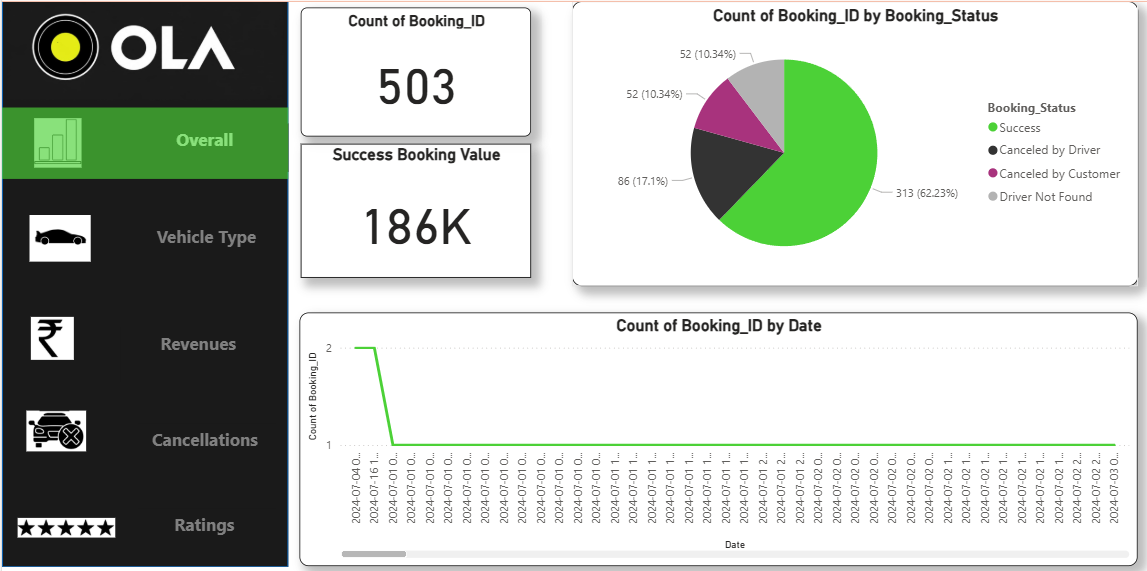

What the dashboard file says about the page in this screenshot:
{"tool":"powerbi","page":{"name":"Overall","canvas":[1280,720],"ordinal":0},"visuals":[{"type":"shape","box":[100,311.4,200,60],"z":0},{"type":"card","title":"Count of Booking_ID","fields":{"Values":["CountNonNull(ola_project cleaned_ola_data.Booking_ID)"]},"box":[328.6,95.7,252.9,141.4],"z":1000},{"type":"card","title":"Sum of Booking value","fields":{"Values":["Sum(ola_project cleaned_ola_data.Booking_Value)"]},"box":[454.7,466.1,252.3,148.2],"z":2000},{"type":"pieChart","fields":{"Category":["ola_project cleaned_ola_data.Booking_Status"],"Y":["CountNonNull(ola_project cleaned_ola_data.Booking_ID)"]},"box":[625.7,88.6,621.4,312.9],"z":3000},{"type":"lineChart","fields":{"Category":["ola_project cleaned_ola_data.Date"],"Y":["CountNonNull(ola_project cleaned_ola_data.Booking_ID)"]},"box":[327.1,431.4,920,278.6],"z":4000},{"type":"pageNavigator","box":[0,0,1000,50],"z":5000},{"type":"bookmarkNavigator","box":[0,0,600,50],"z":6000},{"type":"pageNavigator","box":[0,0,1000,50],"z":7000},{"type":"actionButton","box":[0,0,100,40],"z":8000},{"type":"actionButton","box":[0,0,100,40],"z":9000},{"type":"card","title":"Success Booking Value","fields":{"Values":["Table (2).Success Booking Value"]},"box":[328.6,245.7,252.9,147.1],"z":10000},{"type":"image","box":[0,40,300,184.3],"z":11000},{"type":"actionButton","box":[0,0,100,40],"z":12000},{"type":"actionButton","box":[0,0,100,40],"z":13000},{"type":"actionButton","box":[0,0,100,40],"z":14000},{"type":"shape","box":[0,25.7,314.3,684.3],"z":15000},{"type":"image","box":[0,60,314.3,164.3],"z":16000},{"type":"image","box":[22.9,212.9,75.7,64.3],"z":17000},{"type":"image","box":[25.7,431.4,58.6,57.1],"z":18000},{"type":"image","box":[30,324.3,67.1,51.4],"z":19000},{"type":"image","box":[21.4,475.7,75.7,170],"z":20000},{"type":"image","box":[12.9,614.3,117.1,104.3],"z":21000},{"type":"actionButton","box":[0,0,100,40],"z":22000},{"type":"actionButton","box":[0,0,100,40],"z":23000},{"type":"actionButton","box":[0,0,100,40],"z":24000},{"type":"actionButton","box":[0,0,100,40],"z":25000},{"type":"actionButton","box":[0,0,100,40],"z":26000},{"type":"actionButton","box":[0,0,100,40],"z":27000},{"type":"textbox","box":[130,224.3,184.3,52.9],"z":28000},{"type":"textbox","box":[150,330,150,41.4],"z":29000},{"type":"textbox","box":[130,447.1,170,60],"z":30000},{"type":"textbox","box":[150,552.9,150,61.4],"z":31000},{"type":"textbox","box":[150,645.7,150,50],"z":32000},{"type":"shape","box":[0,205.7,314.3,78.6],"z":32500},{"type":"pageNavigator","box":[0,0,1000,50],"z":35000}]}

Visuals, with their boxes on the page's 1280x720 design canvas (x1, y1, x2, y2). These are canvas units, not pixel positions in the 1147x571 screenshot, which may show the page scaled, cropped or inside an application window:
shape: (100,311,300,371)
"Count of Booking_ID" card: (329,96,582,237)
"Sum of Booking value" card: (455,466,707,614)
pieChart - ola_project cleaned_ola_data.Booking_Status x CountNonNull(ola_project cleaned_ola_data.Booking_ID): (626,89,1247,402)
lineChart - ola_project cleaned_ola_data.Date x CountNonNull(ola_project cleaned_ola_data.Booking_ID): (327,431,1247,710)
pageNavigator: (0,0,1000,50)
bookmarkNavigator: (0,0,600,50)
pageNavigator: (0,0,1000,50)
actionButton: (0,0,100,40)
actionButton: (0,0,100,40)
"Success Booking Value" card: (329,246,582,393)
image: (0,40,300,224)
actionButton: (0,0,100,40)
actionButton: (0,0,100,40)
actionButton: (0,0,100,40)
shape: (0,26,314,710)
image: (0,60,314,224)
image: (23,213,99,277)
image: (26,431,84,488)
image: (30,324,97,376)
image: (21,476,97,646)
image: (13,614,130,719)
actionButton: (0,0,100,40)
actionButton: (0,0,100,40)
actionButton: (0,0,100,40)
actionButton: (0,0,100,40)
actionButton: (0,0,100,40)
actionButton: (0,0,100,40)
textbox: (130,224,314,277)
textbox: (150,330,300,371)
textbox: (130,447,300,507)
textbox: (150,553,300,614)
textbox: (150,646,300,696)
shape: (0,206,314,284)
pageNavigator: (0,0,1000,50)
